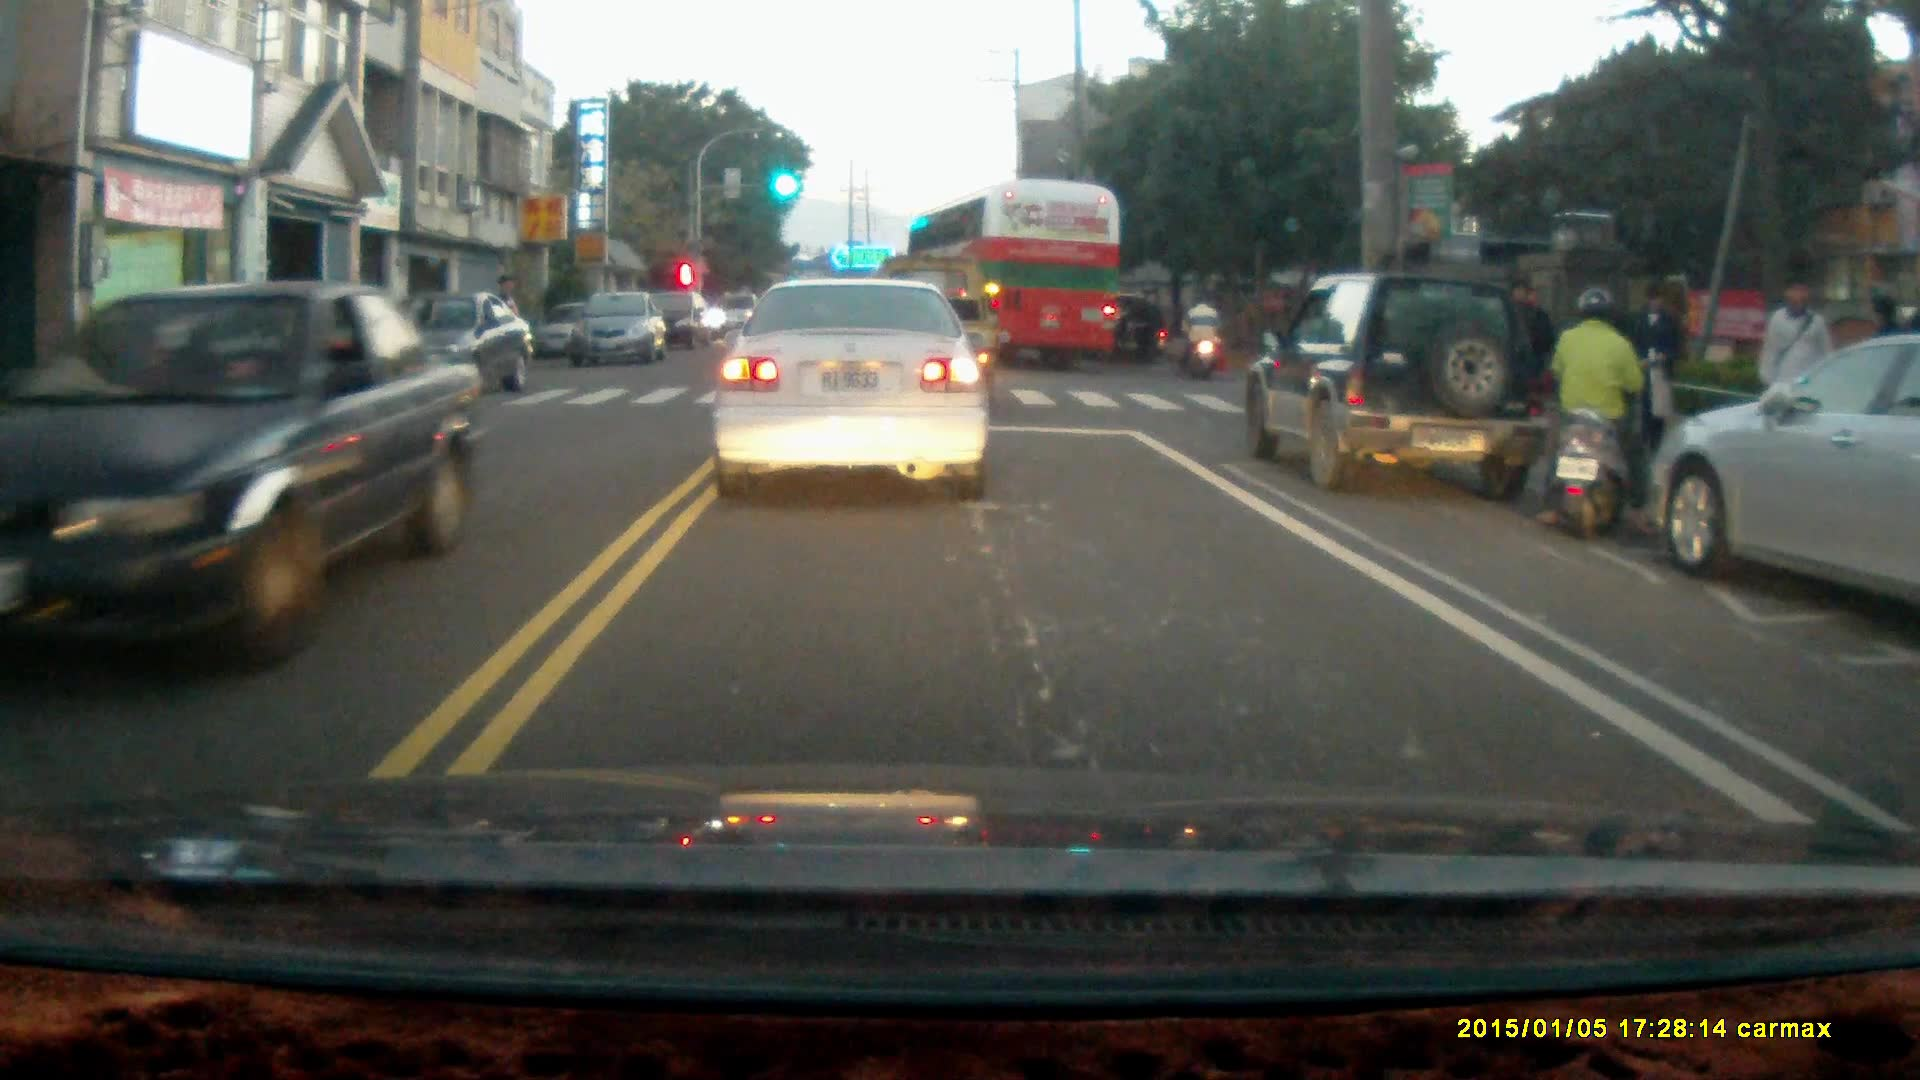pedestrian: (1759, 270, 1837, 447), (1625, 281, 1682, 456)
rider: (1536, 285, 1662, 535), (1106, 291, 1171, 365), (1179, 288, 1223, 378)
vehicle: (8, 278, 486, 680), (1652, 335, 1920, 621), (1240, 272, 1555, 499), (708, 272, 996, 503), (899, 179, 1132, 377), (572, 292, 668, 369), (633, 286, 719, 355)
